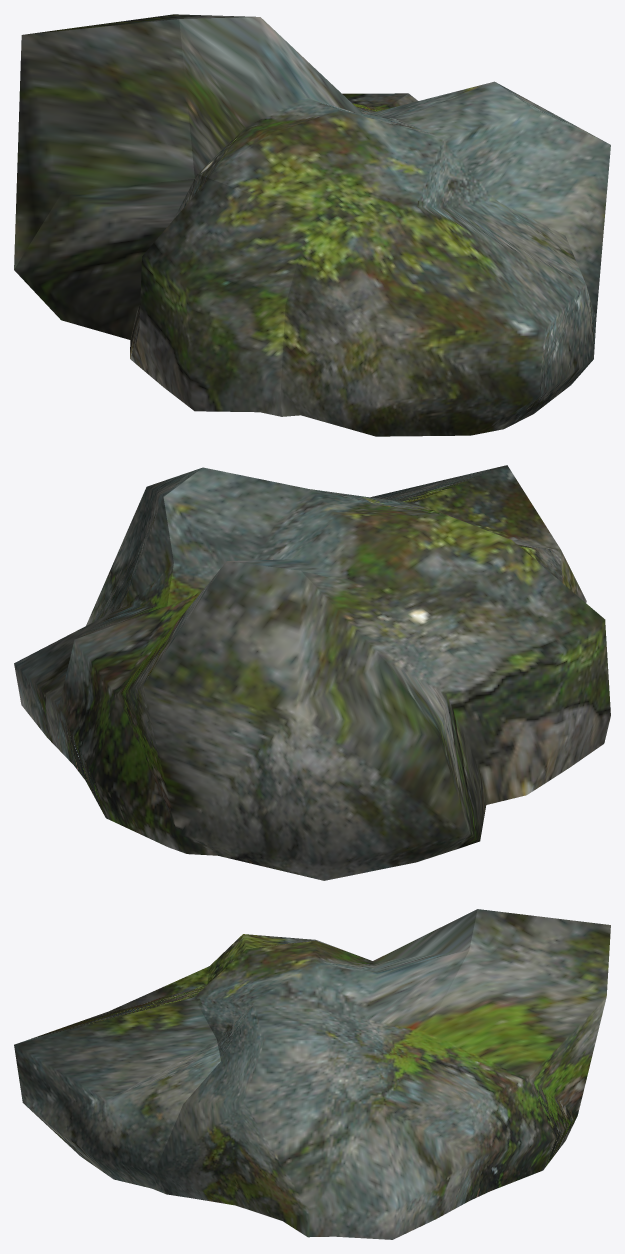
The model's file is Deco.RockA.fbx.
3 views of the same model, one above another, from view 1: azimuth 30°, elevation 25°; view 2: azimuth 150°, elevation 25°; view 3: azimuth 270°, elevation 25° (orthographic). The views are drawn at different scales.
Parts seen in each view (by area): view 1: LP_Rock_07; view 2: LP_Rock_07; view 3: LP_Rock_07.
Part boxes in pixels (x1=…): LP_Rock_07: x1=14, y1=14, x2=610, y2=436; LP_Rock_07: x1=14, y1=465, x2=610, y2=880; LP_Rock_07: x1=14, y1=909, x2=610, y2=1239.
Size of the model in its own units: 150 by 71.51 by 192.
